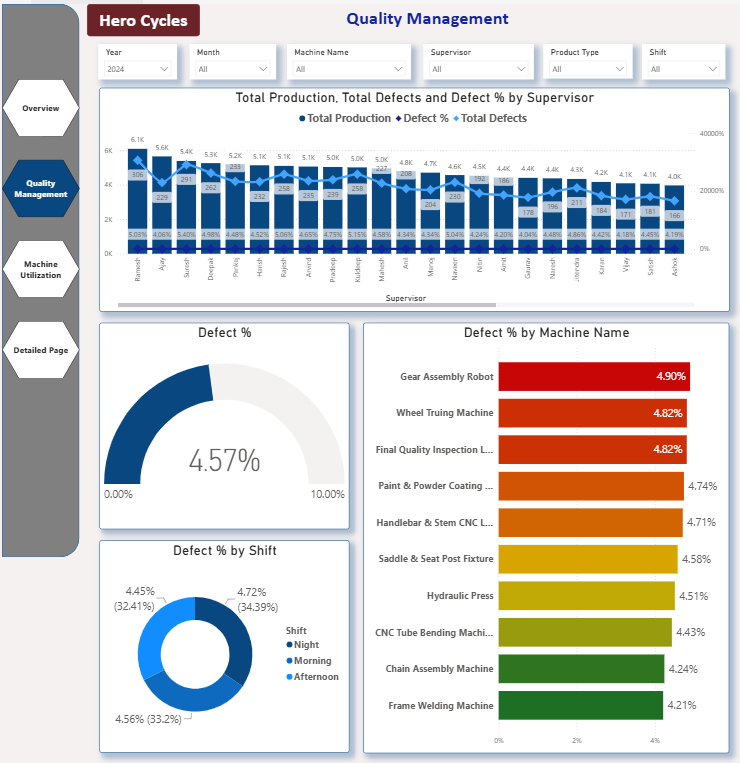

Layout of this report page (visuals, bound fields, positions):
{"tool":"powerbi","page":{"name":"Quality Management","canvas":[1280,1340],"ordinal":1},"visuals":[{"type":"shape","box":[0,0,134.3,960.3],"z":0},{"type":"pageNavigator","box":[0,130,135,523.3],"z":1000},{"type":"textbox","box":[388,0,701.1,50.5],"z":2000},{"type":"lineClusteredColumnComboChart","title":"Total Production, Total Defects and Defect % by Supervisor","fields":{"Y":["Measures_All.Total_Production"],"Category":["Operator.FirstName"],"Y2":["Measures_All.Defect %","Measures_All.Total Defects"]},"box":[168.9,144.6,1093.2,389.2],"z":3000},{"type":"donutChart","fields":{"Category":["Shifts.Shift"],"Y":["Measures_All.Defect %"]},"box":[168.9,931.1,433.8,368.9],"z":4000},{"type":"clusteredBarChart","fields":{"Category":["Machines.Machine Name"],"Y":["Measures_All.Defect %"]},"box":[627,552.7,635.1,747.3],"z":5000},{"type":"gauge","title":"Defect %","fields":{"Y":["Measures_All.Defect %"],"MaxValue":["Measures_All.Target Defect %"]},"box":[168.9,552.7,433.8,358.1],"z":6000},{"type":"textbox","box":[148.4,0,195.7,56],"z":7000},{"type":"slicer","fields":{"Values":["Calender.Year"]},"box":[167.9,68.7,137,62],"z":8000},{"type":"slicer","fields":{"Values":["Calender.Month"]},"box":[326.1,68.7,150,62],"z":9000},{"type":"slicer","fields":{"Values":["Machines.Machine Name"]},"box":[495.7,68.7,215.2,62],"z":10000},{"type":"slicer","fields":{"Values":["Operator.Name"]},"box":[730.4,68.7,192.4,62],"z":11000},{"type":"slicer","fields":{"Values":["Products.Category"]},"box":[939.1,68.7,154.9,60.3],"z":12000},{"type":"slicer","fields":{"Values":["Manufacturing Data.Shift"]},"box":[1110.3,68.7,145.1,62],"z":13000}]}

Visuals, with their boxes in screenshot pixels (x1, y1, x2, y2), scaled from the page's 1280x1340 canvas onto the 740x763 screenshot:
shape: {"left": 0, "top": 0, "right": 78, "bottom": 547}
pageNavigator: {"left": 0, "top": 74, "right": 78, "bottom": 372}
textbox: {"left": 224, "top": 0, "right": 630, "bottom": 29}
"Total Production, Total Defects and Defect % by Supervisor" lineClusteredColumnComboChart: {"left": 98, "top": 82, "right": 730, "bottom": 304}
donutChart - Shifts.Shift x Measures_All.Defect %: {"left": 98, "top": 530, "right": 348, "bottom": 740}
clusteredBarChart - Machines.Machine Name x Measures_All.Defect %: {"left": 362, "top": 315, "right": 730, "bottom": 740}
"Defect %" gauge: {"left": 98, "top": 315, "right": 348, "bottom": 519}
textbox: {"left": 86, "top": 0, "right": 199, "bottom": 32}
slicer - Calender.Year: {"left": 97, "top": 39, "right": 176, "bottom": 74}
slicer - Calender.Month: {"left": 189, "top": 39, "right": 275, "bottom": 74}
slicer - Machines.Machine Name: {"left": 287, "top": 39, "right": 411, "bottom": 74}
slicer - Operator.Name: {"left": 422, "top": 39, "right": 533, "bottom": 74}
slicer - Products.Category: {"left": 543, "top": 39, "right": 632, "bottom": 73}
slicer - Manufacturing Data.Shift: {"left": 642, "top": 39, "right": 726, "bottom": 74}
